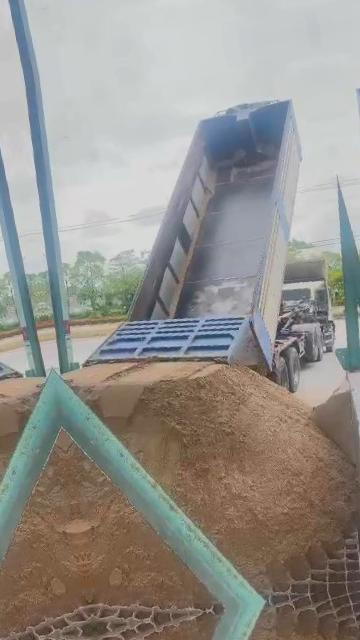sand: (69, 332, 358, 590), (65, 436, 213, 606), (312, 378, 358, 466)
